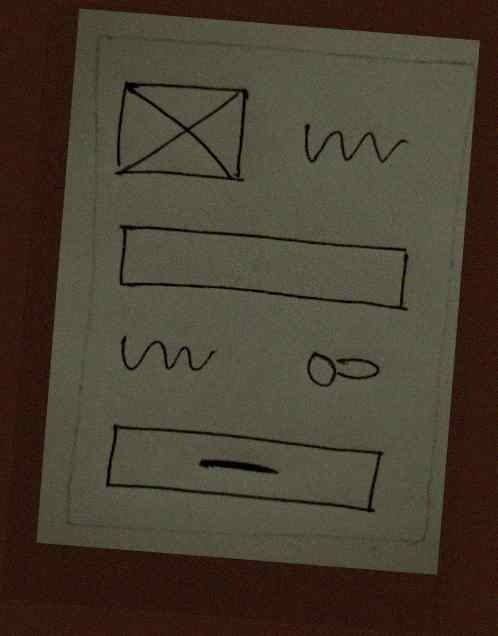button: (97, 414, 389, 523)
image: (105, 70, 260, 199)
switch: (293, 343, 395, 401)
text: (292, 117, 416, 180), (108, 327, 223, 387)
text_input: (109, 217, 419, 326)
